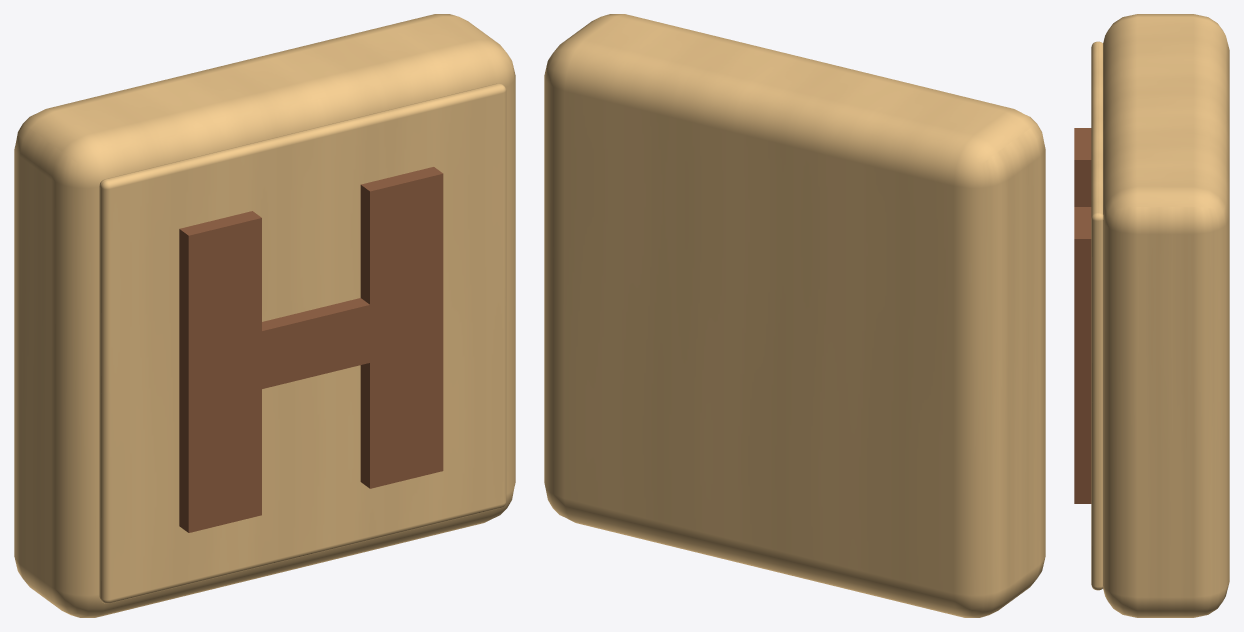
3 views of the same model, side by side, from view 1: azimuth 30°, elevation 25°; view 2: azimuth 150°, elevation 25°; view 3: azimuth 270°, elevation 25° (orthographic). The views are drawn at different scales.
Parts seen in each view (by area): view 1: Tile_H; view 2: Tile_H; view 3: Tile_H.
Boxes of the visible parts, x1,y1,x2,y2 form: Tile_H: (14,14,515,617); Tile_H: (544,14,1045,617); Tile_H: (1074,14,1229,617).
Bounding box in the file's own units: 0.21 × 0.21 × 0.069.
2 materials, 1 textured.
